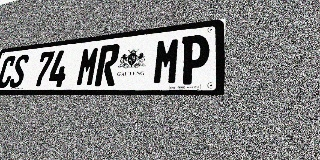4: (47, 49, 71, 87)
7: (32, 51, 55, 87)
C: (0, 55, 17, 88)
M: (152, 37, 181, 85), (75, 46, 101, 87)
P: (179, 34, 210, 85)
R: (94, 44, 121, 86)
S: (8, 54, 30, 88)
